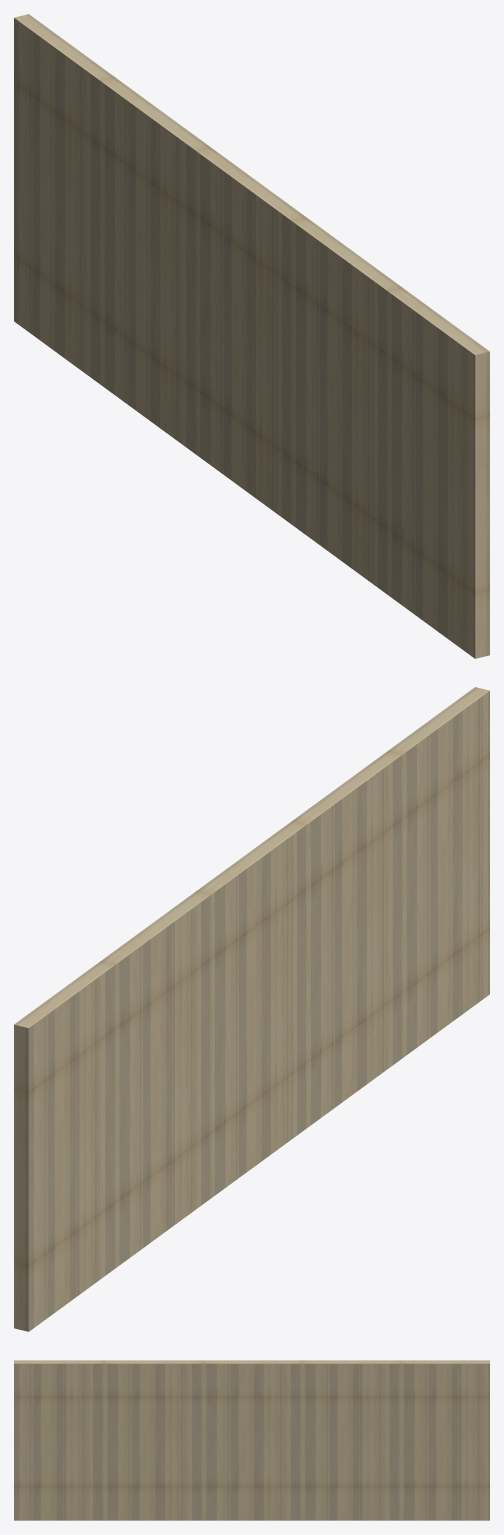
File: souplongwall033.glb
3 views of the same model, one above another, from view 1: azimuth 30°, elevation 25°; view 2: azimuth 150°, elevation 25°; view 3: azimuth 270°, elevation 25° (orthographic). The views are drawn at different scales.
Parts seen in each view (by area): view 1: souplongwall033_high_1; view 2: souplongwall033_high_1; view 3: souplongwall033_high_1.
Part boxes in pixels (<box>): souplongwall033_high_1: <box>14,14,489,658</box>; souplongwall033_high_1: <box>14,687,489,1331</box>; souplongwall033_high_1: <box>14,1360,489,1520</box>.
Bounding box in the file's own units: 0.1504 × 2.95 × 8.11.
1 material, 1 textured.
